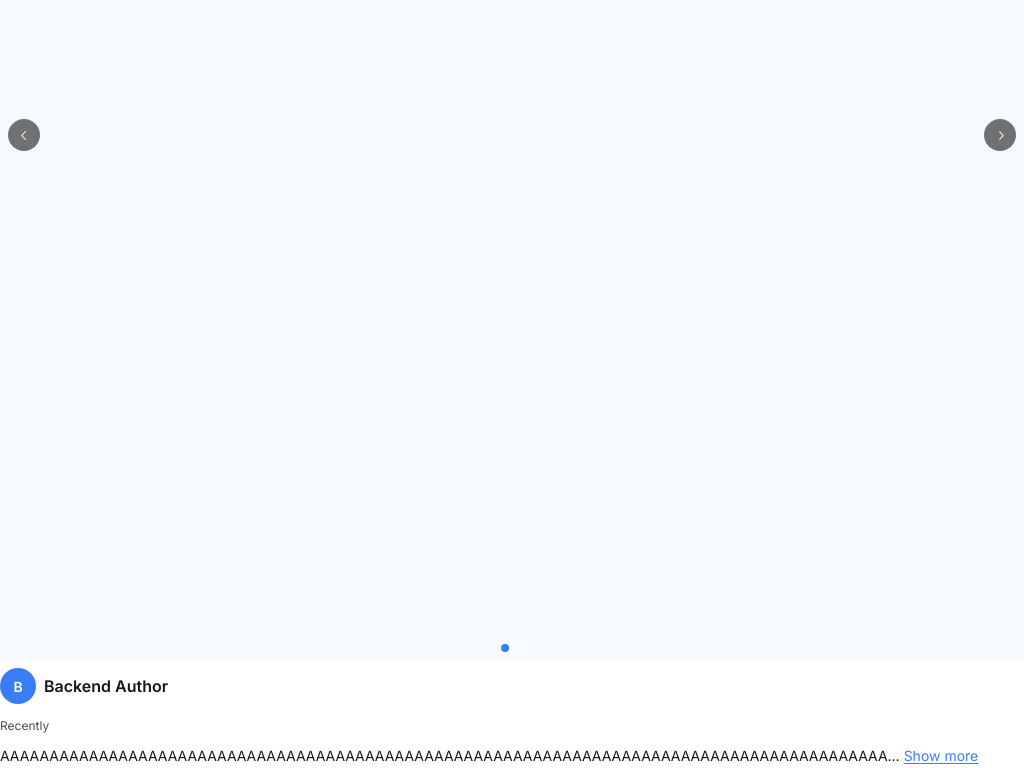
Test: PublicPostCard › uses the shared Figma typography and preserves the description toggle
The image size is (1024, 768).
(page scrolled)
Expected: the picture "B" is shown, [0,668,36,704]
Click the button "Show more": [941, 756] box [904,744,978,767]
(page scrolled)
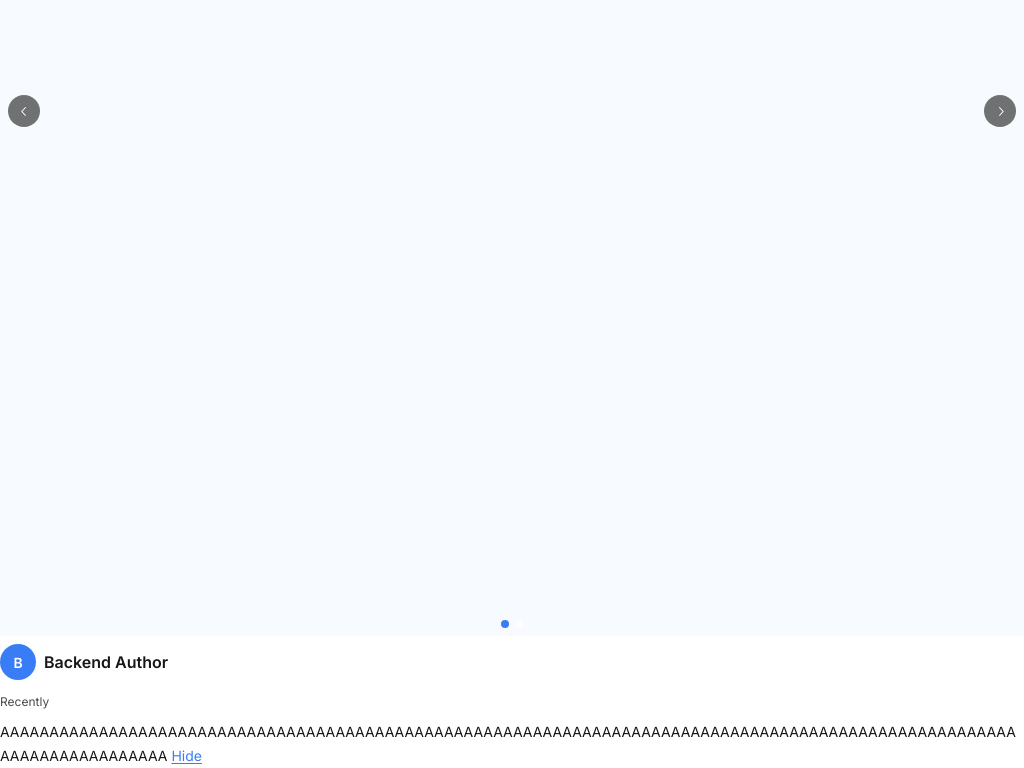
Now the button "Hide" is shown, box [171,744,202,767]
